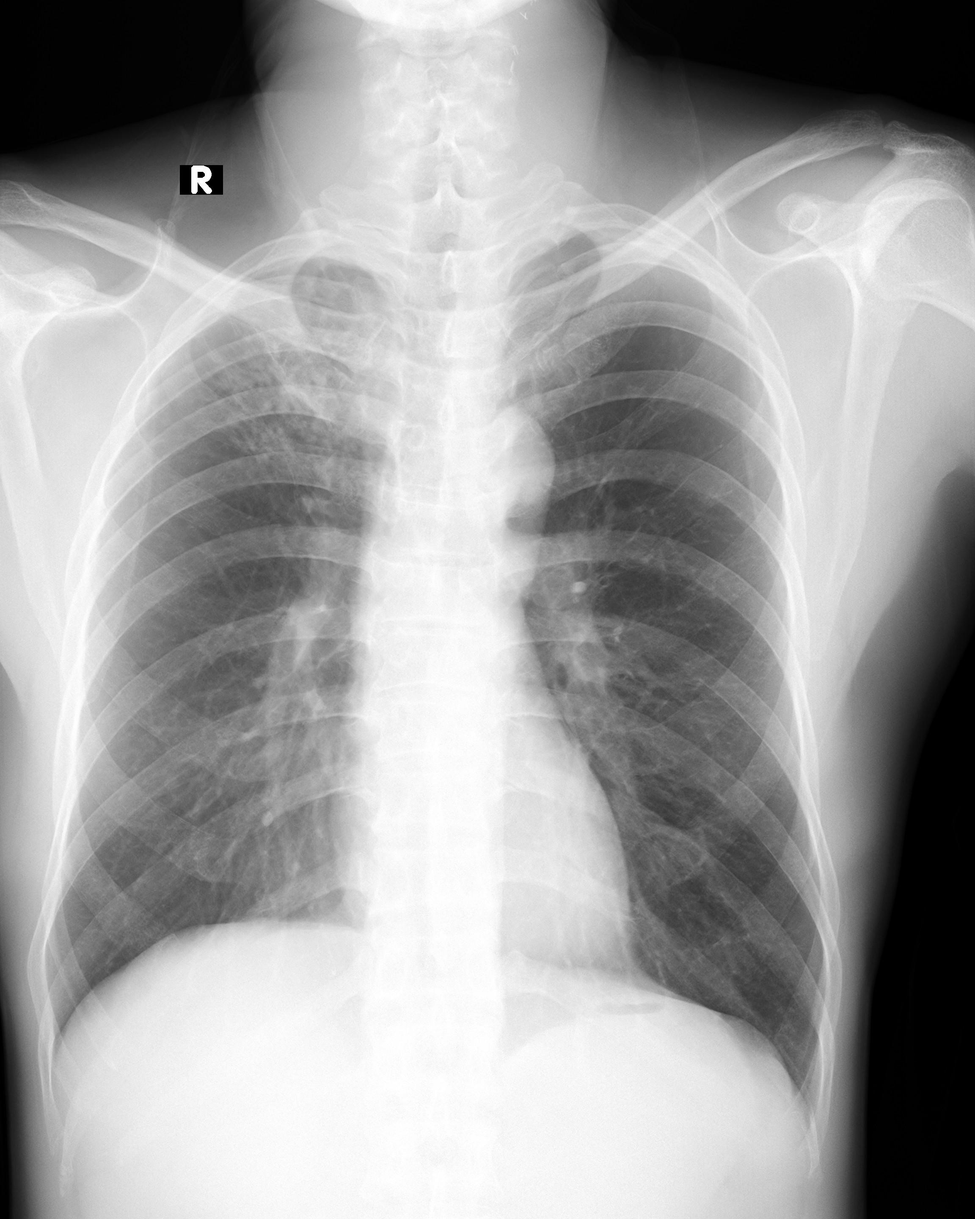Pulmonary fibrosis: (198, 279, 375, 514)
